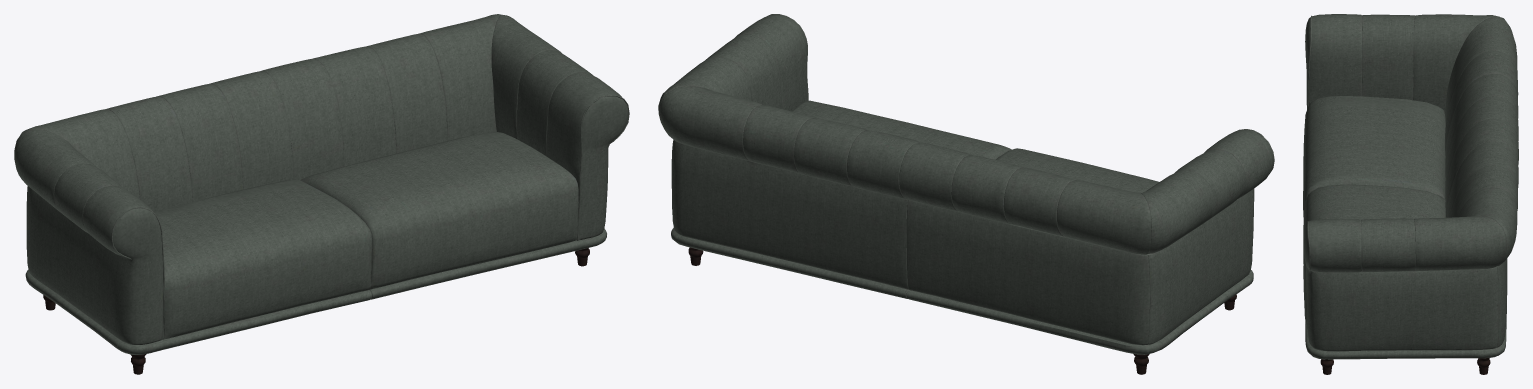
File: viskafors_sofa_3_osobowa_99443367.glb
The picture shows the model from 3 angles, left to right: view 1: azimuth 30°, elevation 25°; view 2: azimuth 150°, elevation 25°; view 3: azimuth 270°, elevation 25°; orthographic projection. The views are drawn at different scales.
Visible parts, largest first — view 1: viskafors_sofa_3_osobowa_99443367; view 2: viskafors_sofa_3_osobowa_99443367; view 3: viskafors_sofa_3_osobowa_99443367.
Part boxes in pixels (box(x1,y1,x2,y2)): viskafors_sofa_3_osobowa_99443367: box(14, 14, 629, 374); viskafors_sofa_3_osobowa_99443367: box(658, 14, 1274, 374); viskafors_sofa_3_osobowa_99443367: box(1303, 14, 1518, 374).
Size of the model in its own units: 2.26 by 0.7433 by 0.909.
Materials: 1 (1 with a texture image).
